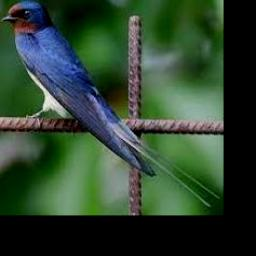Swallow: (1, 1, 220, 207)
